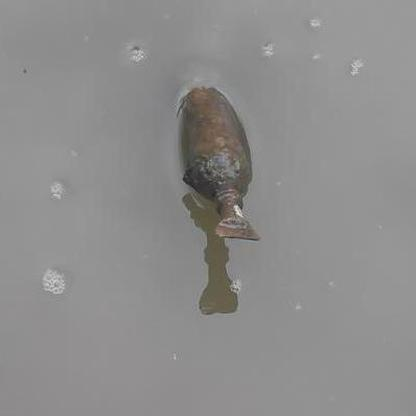plastic bottle: (176, 85, 264, 242)
